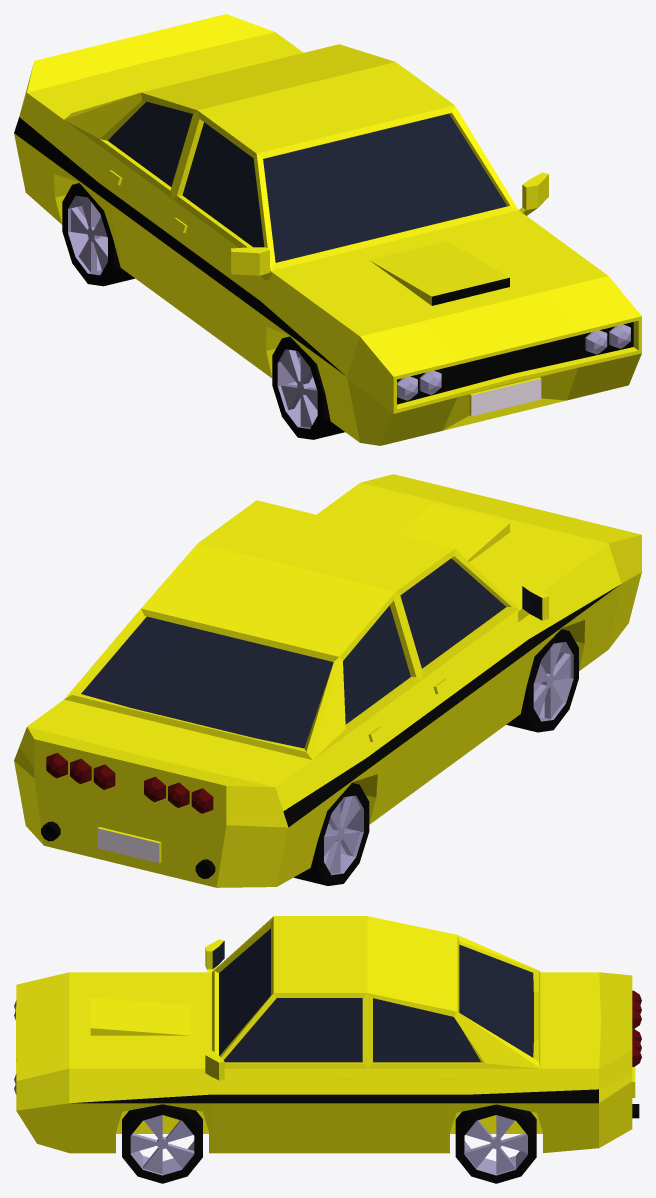
The model's file is muscle.glb.
3 views of the same model, one above another, from view 1: azimuth 30°, elevation 25°; view 2: azimuth 150°, elevation 25°; view 3: azimuth 270°, elevation 25° (orthographic). The views are drawn at different scales.
Parts seen in each view (by area): view 1: body-2, wheel-front-right, wheel-back-right; view 2: body-2, wheel-front-right, wheel-back-right; view 3: body-2, wheel-front-left, wheel-back-left.
Boxes of the visible parts, box(x1,y1,x2,y2) form: body-2: box(14, 14, 641, 445); wheel-front-right: box(272, 336, 344, 439); wheel-back-right: box(62, 183, 134, 286); body-2: box(14, 474, 641, 887); wheel-front-right: box(506, 629, 578, 732); wheel-back-right: box(294, 783, 369, 885); body-2: box(14, 916, 641, 1153); wheel-front-left: box(122, 1104, 202, 1183); wheel-back-left: box(455, 1104, 536, 1183).
Size of the model in its own units: 1.72 by 1.17 by 3.7.
